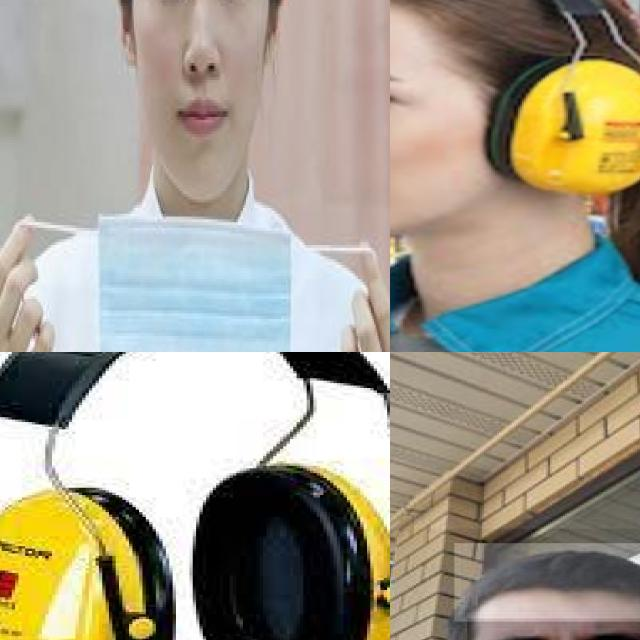Ear-protection: (0, 352, 390, 640), (390, 0, 640, 257)
No_Ear-Protection: (112, 0, 142, 67)
No_Glasses: (470, 611, 640, 640), (139, 0, 275, 34), (390, 56, 450, 118)
face_nomask: (129, 0, 268, 199)
hand_noglove: (0, 213, 63, 352), (321, 247, 390, 352)
head_nohelmet: (454, 543, 640, 621)
person: (0, 0, 390, 352), (390, 528, 640, 640)
